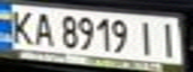1: (93, 16, 115, 52)
8: (57, 12, 81, 50)
9: (109, 16, 133, 54), (75, 15, 96, 52)
A: (30, 9, 57, 47)
I: (154, 19, 184, 57), (133, 18, 160, 57)
K: (3, 7, 39, 45)
